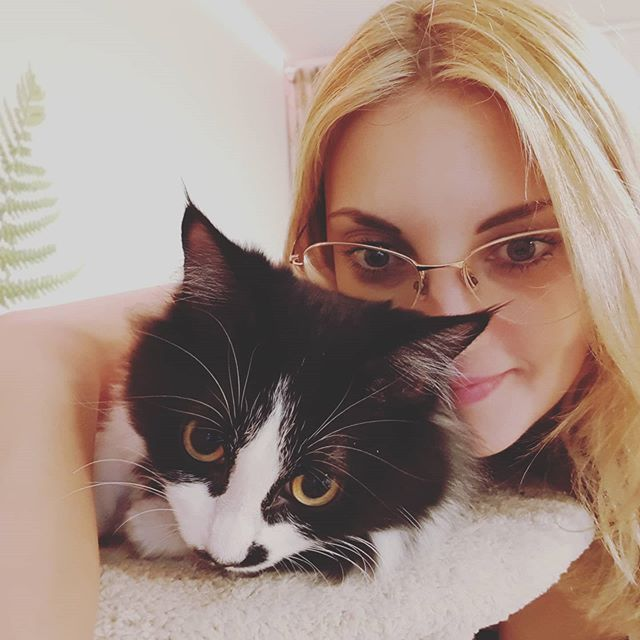cat: (118, 186, 497, 614)
